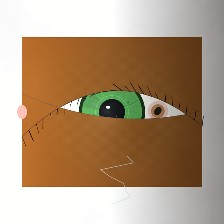foreign_body_visible: (136, 93, 180, 129)
